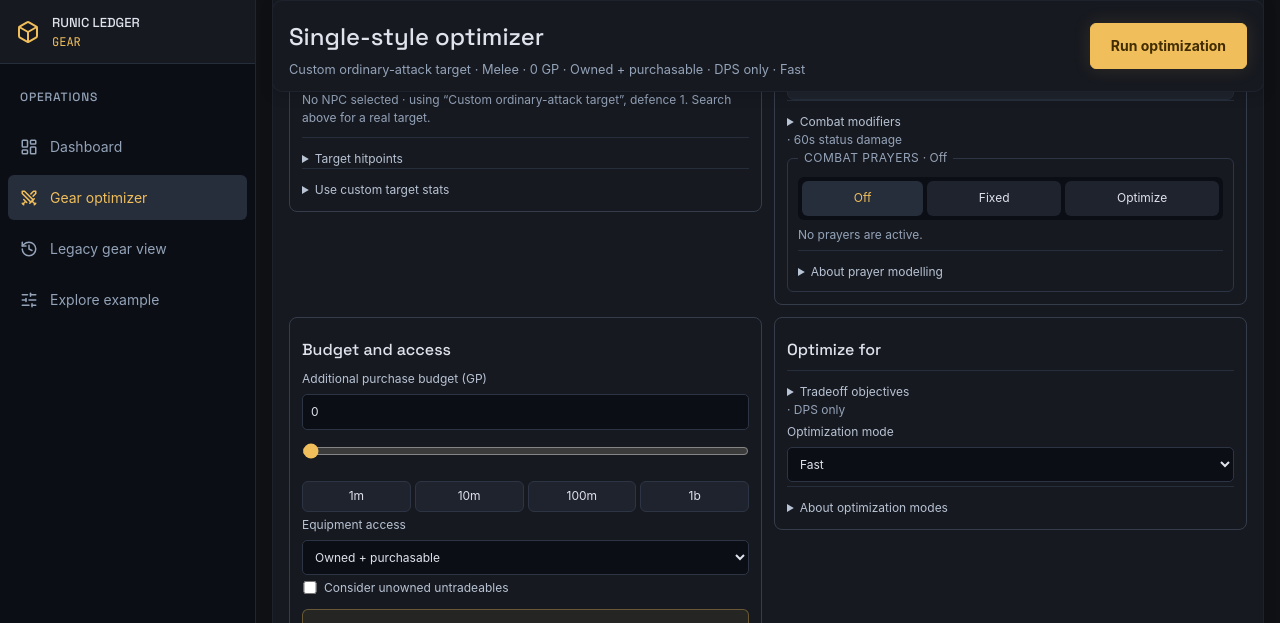
refreshes once on a pre-admission conflict, second conflict false
The width and height of the screenshot is (1280, 623).
(page scrolled)
Replace the text in the field labelled "Additional purchase budget (GP)" with "1234" at (526, 412), box [302, 394, 749, 430]
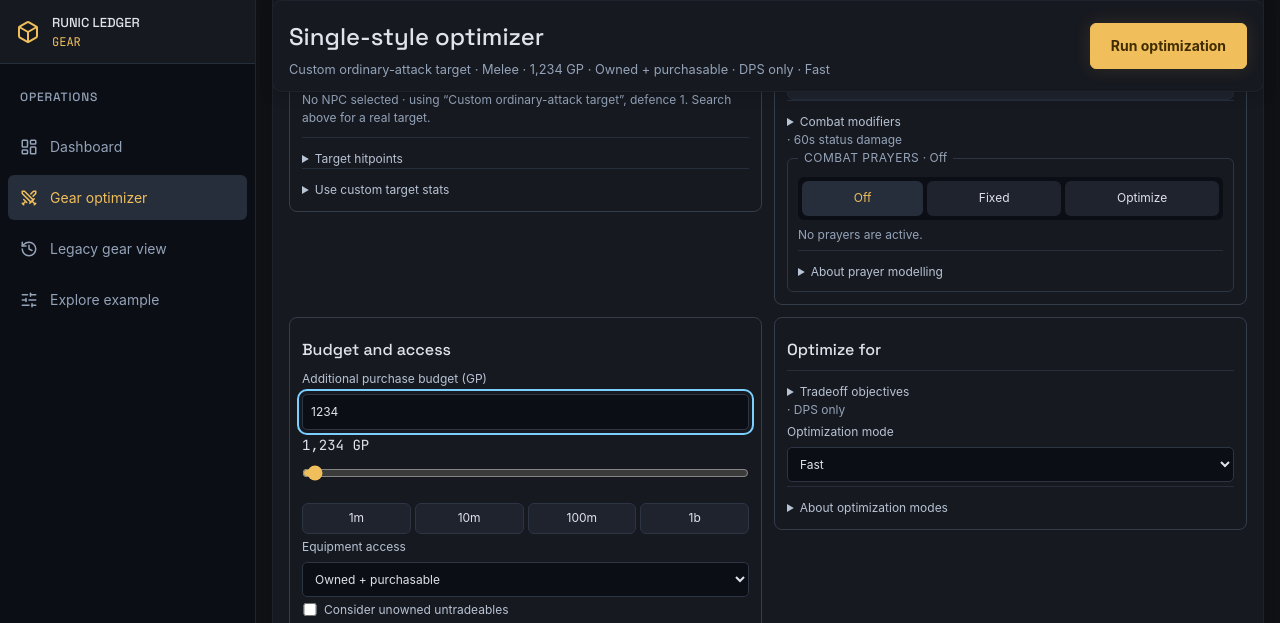
Click the button "Run optimization" at (1168, 46), box [1090, 23, 1247, 69]
(page scrolled)
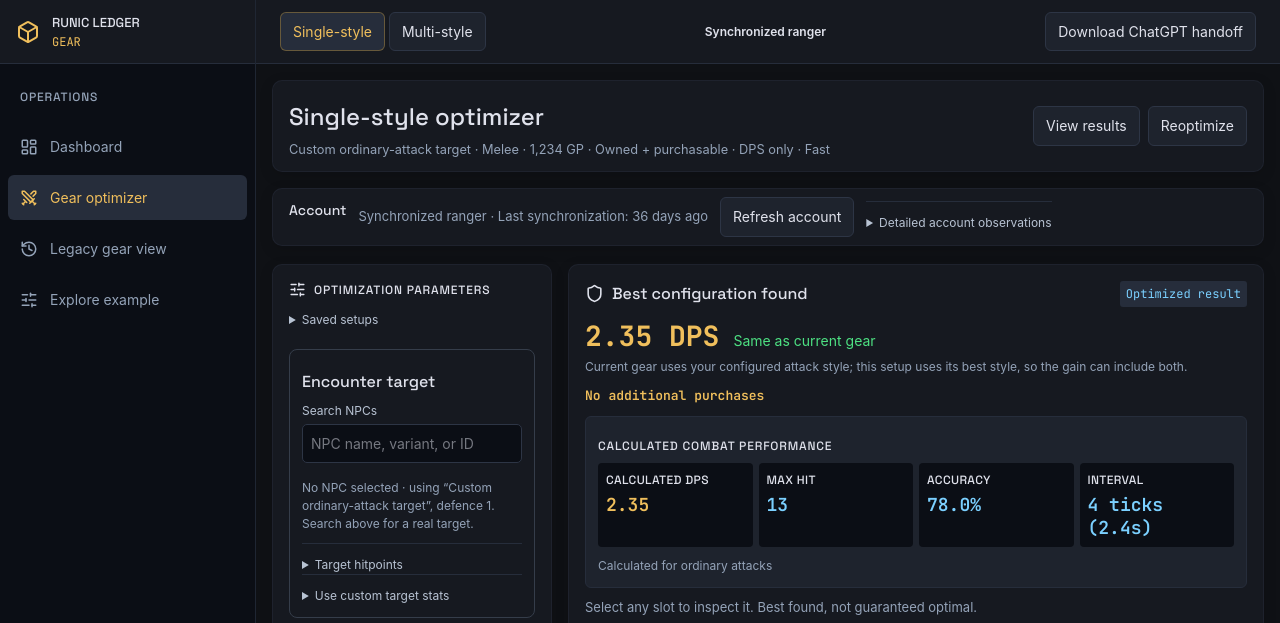
Expected: the heading "Best configuration found" is shown, [585, 282, 808, 306]
